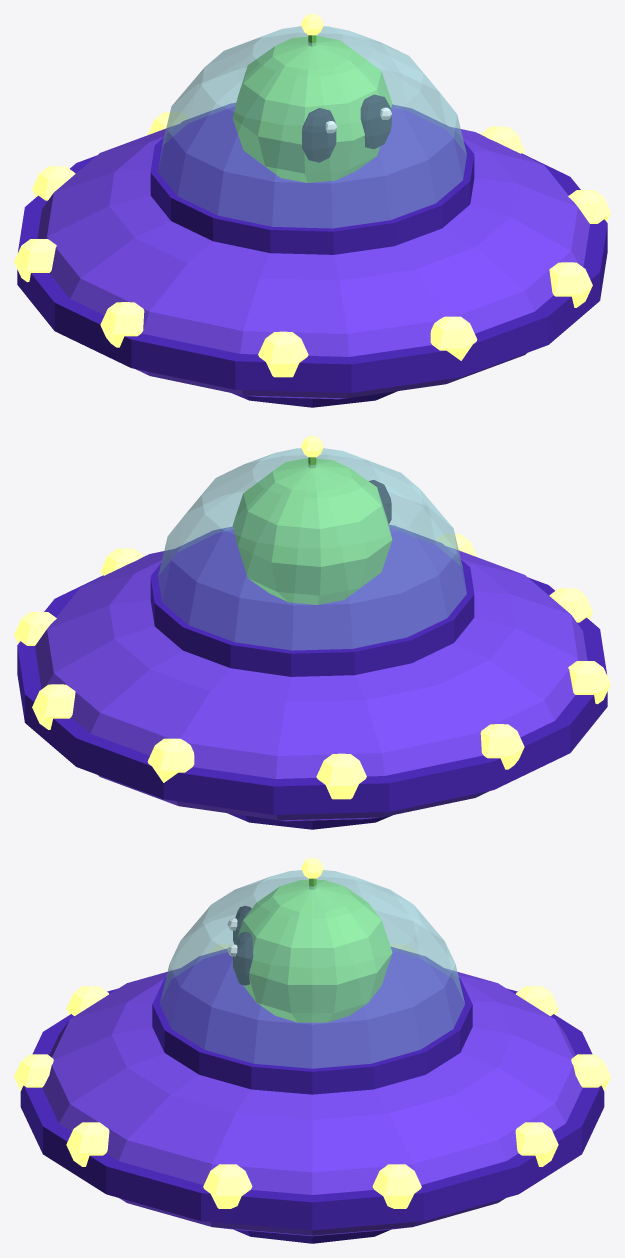
Rendered from ufo.glb.
The picture shows the model from 3 angles, top to bottom: view 1: azimuth 30°, elevation 25°; view 2: azimuth 150°, elevation 25°; view 3: azimuth 270°, elevation 25°; orthographic projection. The views are drawn at different scales.
Parts seen in each view (by area): view 1: UfoHull, UfoDome, UfoAlien, UfoLights; view 2: UfoHull, UfoDome, UfoAlien, UfoLights; view 3: UfoHull, UfoDome, UfoAlien, UfoLights.
Boxes of the visible parts, <box> form: UfoHull: <box>17,103,607,407</box>; UfoDome: <box>158,26,466,228</box>; UfoAlien: <box>232,14,392,182</box>; UfoLights: <box>14,112,610,377</box>; UfoHull: <box>17,525,607,829</box>; UfoDome: <box>158,448,466,650</box>; UfoAlien: <box>232,436,392,604</box>; UfoLights: <box>14,534,610,799</box>; UfoHull: <box>20,947,604,1243</box>; UfoDome: <box>160,870,464,1068</box>; UfoAlien: <box>227,858,392,1022</box>; UfoLights: <box>14,944,610,1208</box>.
Bounding box in the file's own units: 1.13 × 0.732 × 1.16.
